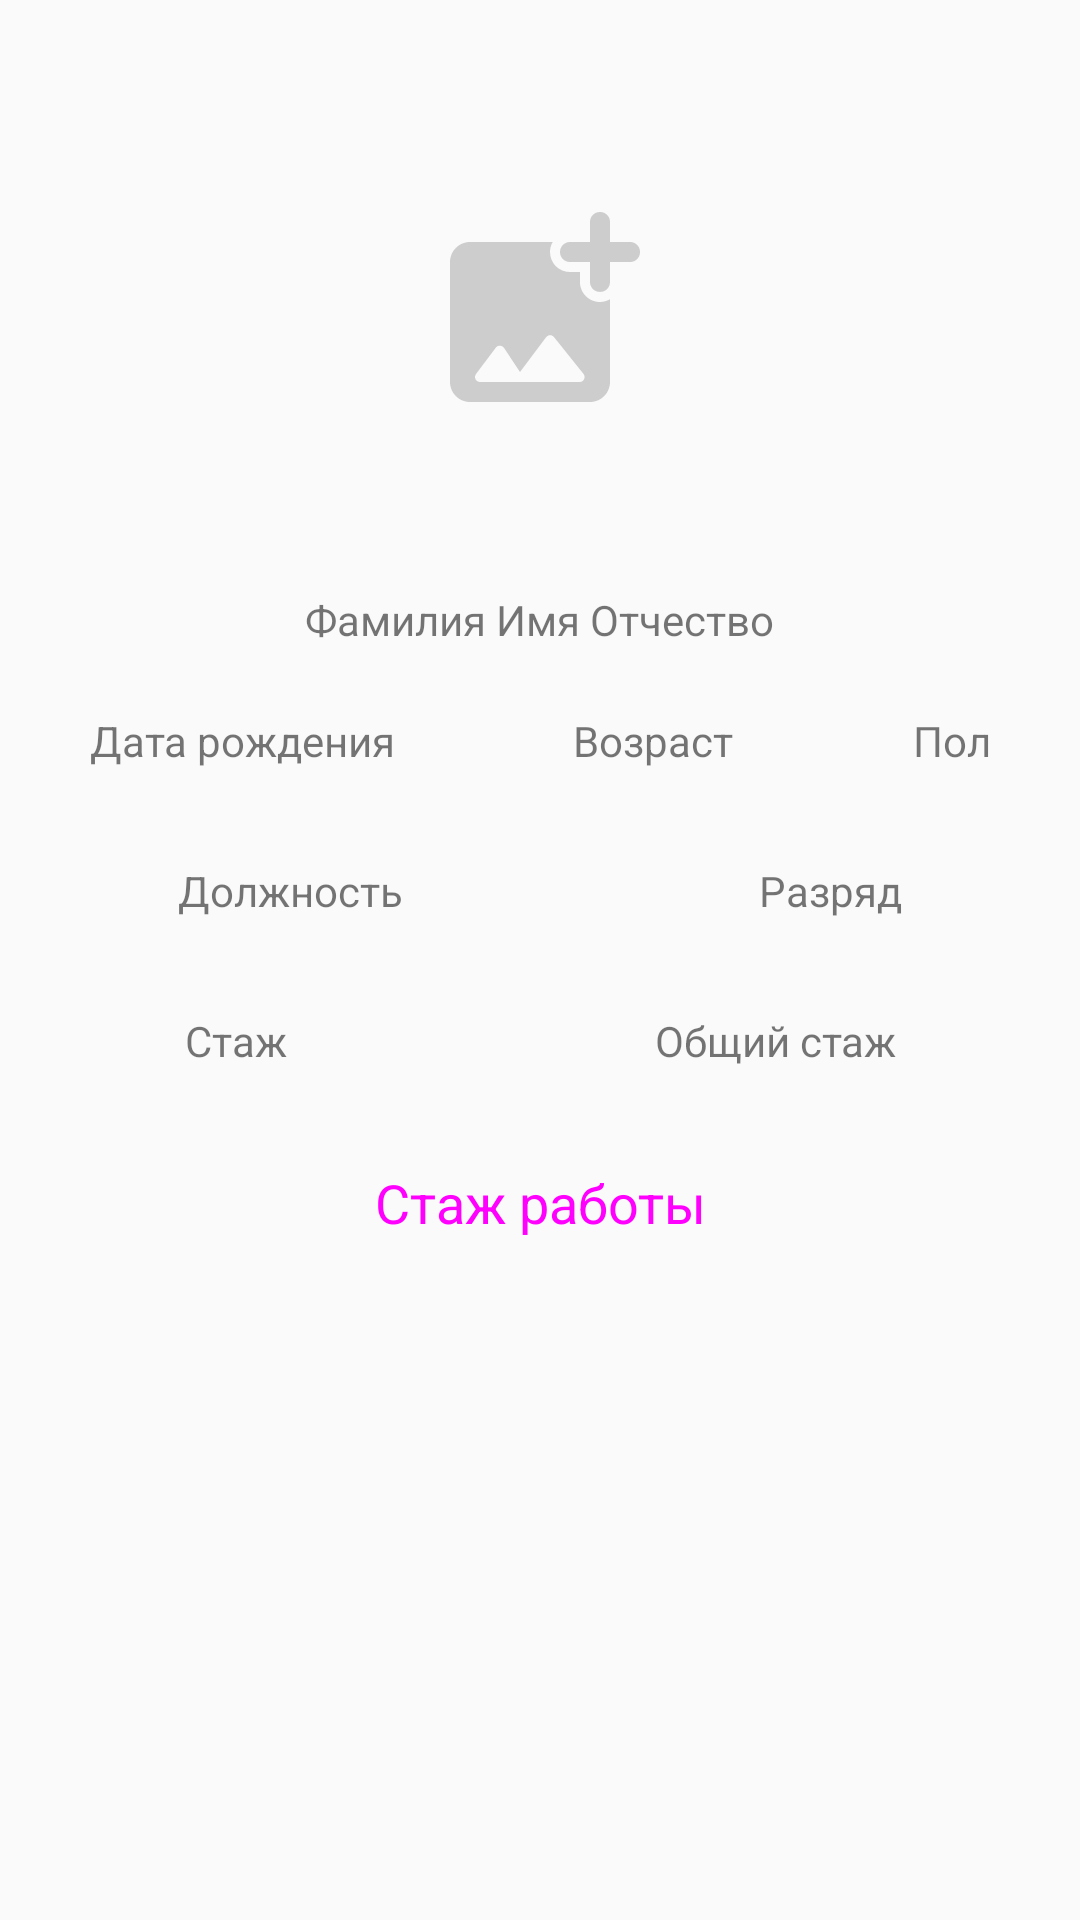

Locate icon controls on the screen. Image size 1080px×1920px, boxes as (x1, y1, x2, y2).
add photo alternate: (450, 212, 640, 402)
